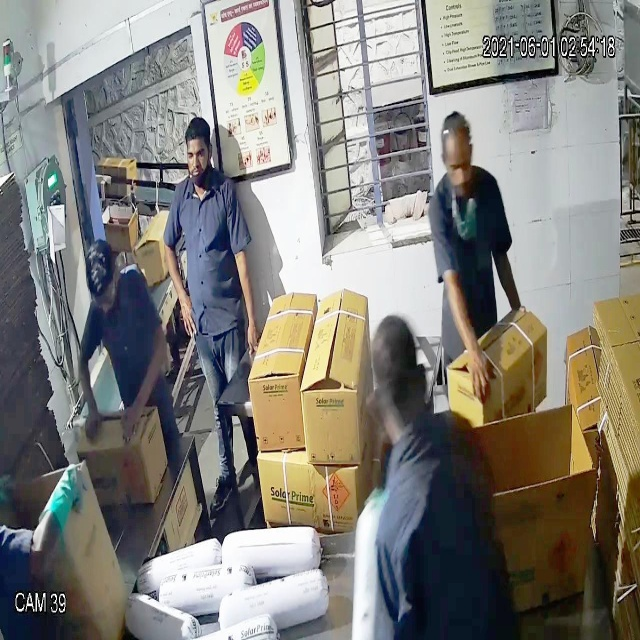Sin_gafas: (433, 147, 476, 186)
